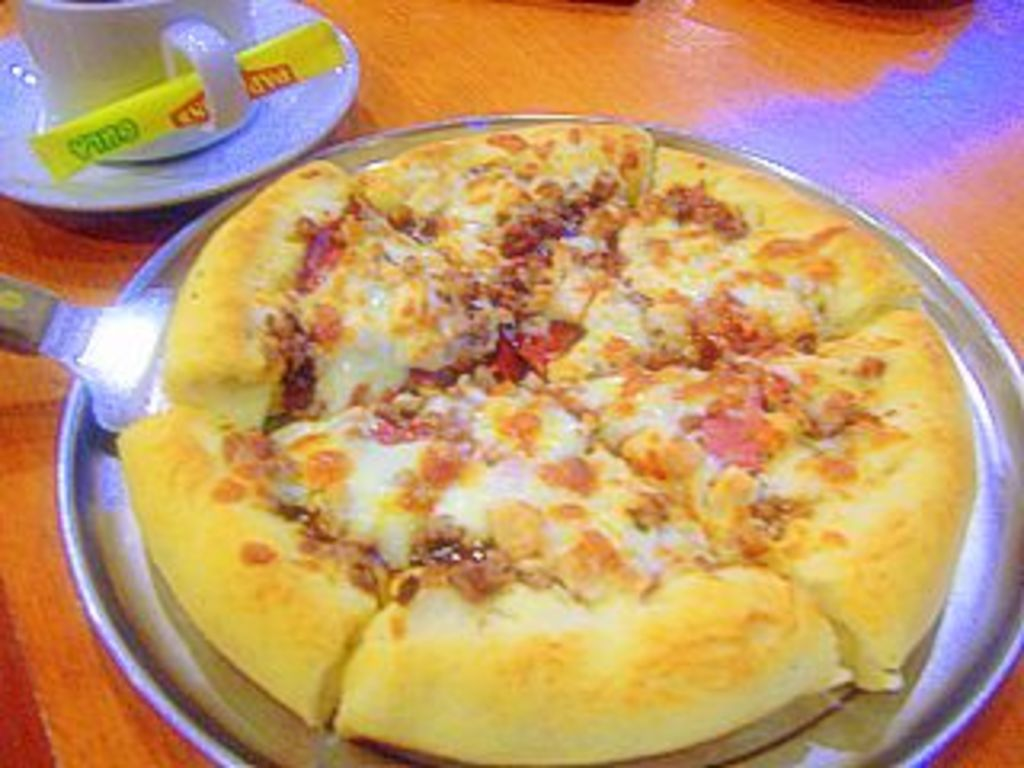Pizza: (108, 108, 976, 761)
